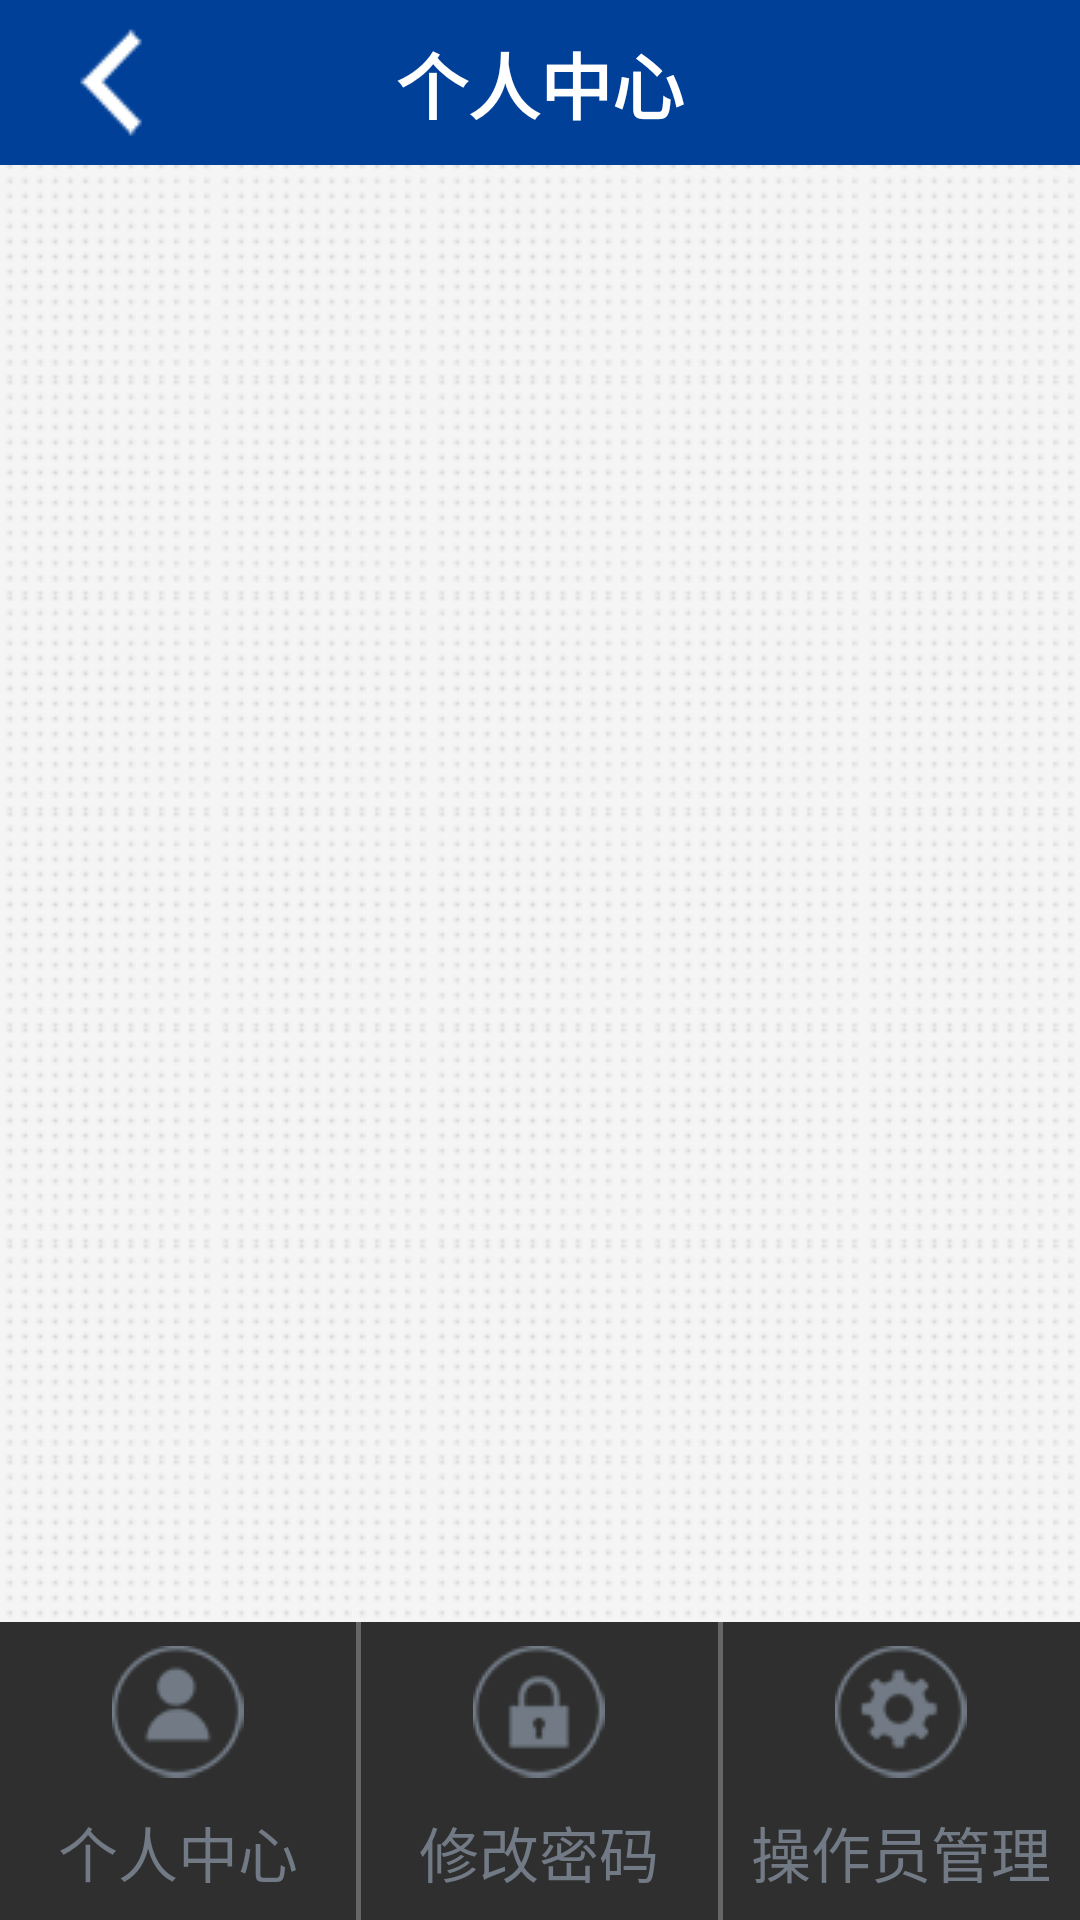

Screen size 1080 x 1920. Icon name, then its center in pixels as [x,y]:
back: [111,82]
